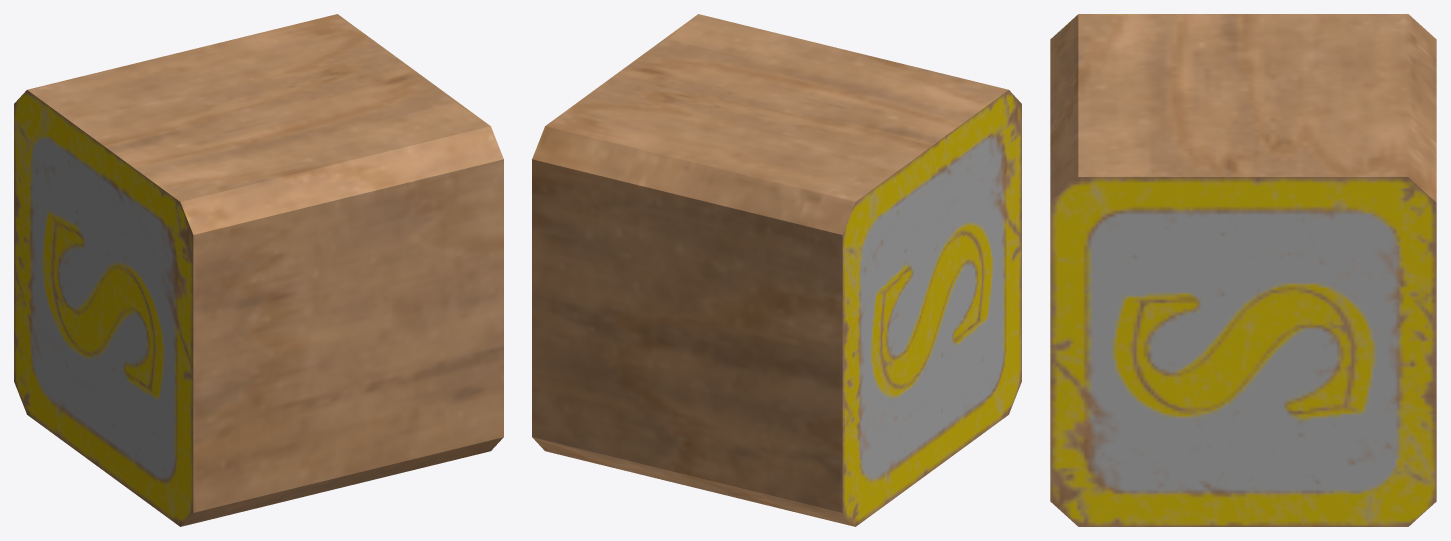
File: block_S.obj
3 renders of one model, left to right at view 1: azimuth 30°, elevation 25°; view 2: azimuth 150°, elevation 25°; view 3: azimuth 270°, elevation 25°, orthographic. The views are drawn at different scales.
Size of the model in its own units: 0.2 by 0.2 by 0.2.
Materials: 1 (1 with a texture image).
